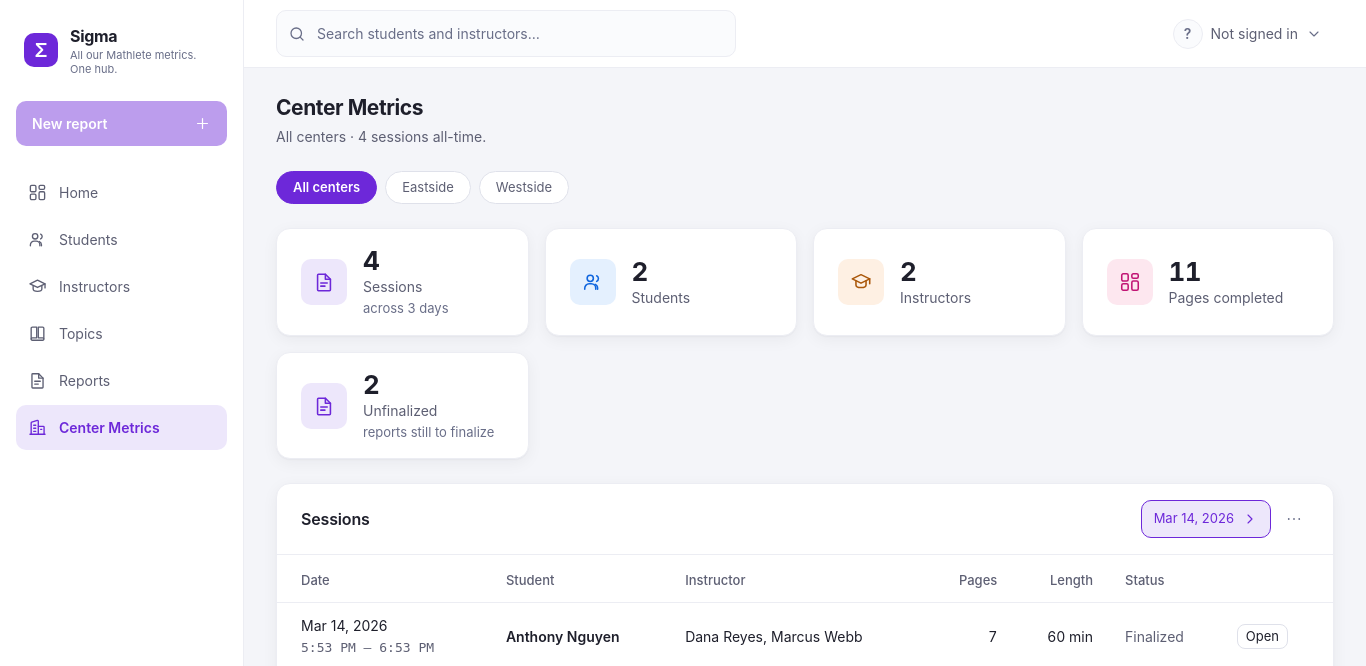
Test: center metrics page › shows every session once the filter is cleared
Click the button with aria-label "Filter by session date: Mar 14, 2026". click: (1206, 519)
box: 1141,500 -> 1271,538
(page scrolled)
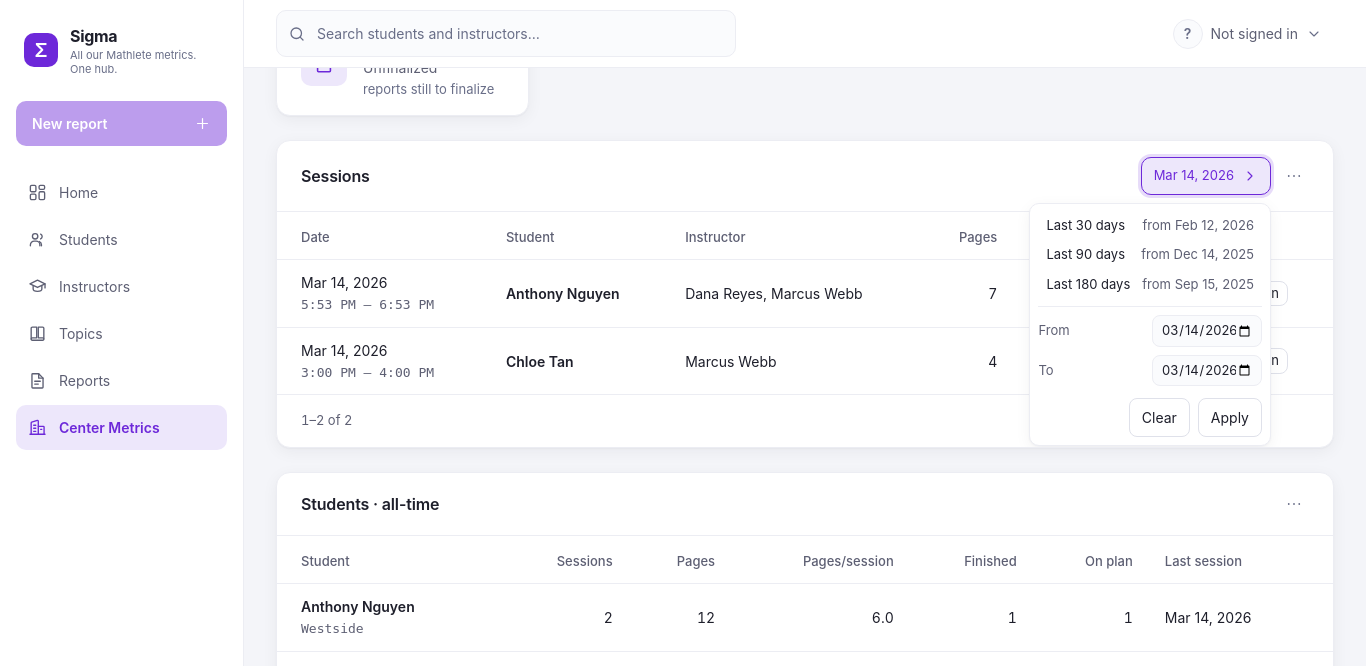
Click the button "Clear". click: (1159, 418)
box: 1129,398 -> 1190,437
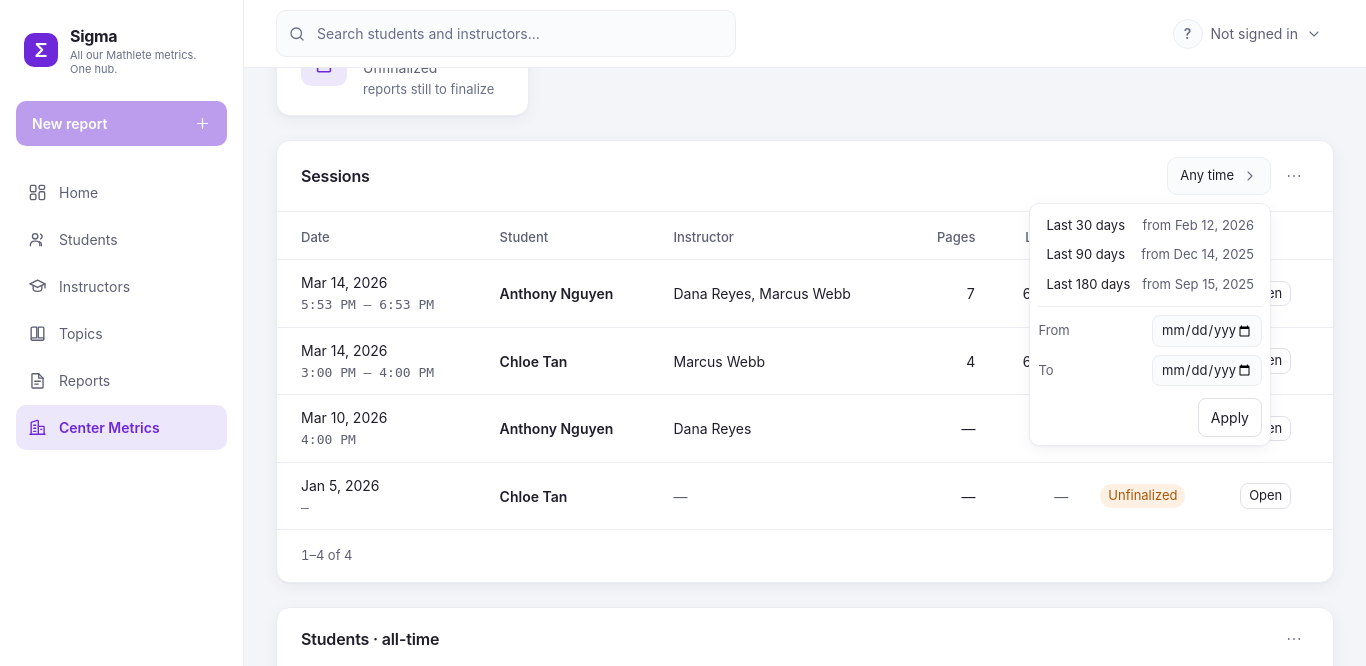
Now the button with aria-label "filter by session date: any time" is shown, box 1167,157 -> 1271,195
